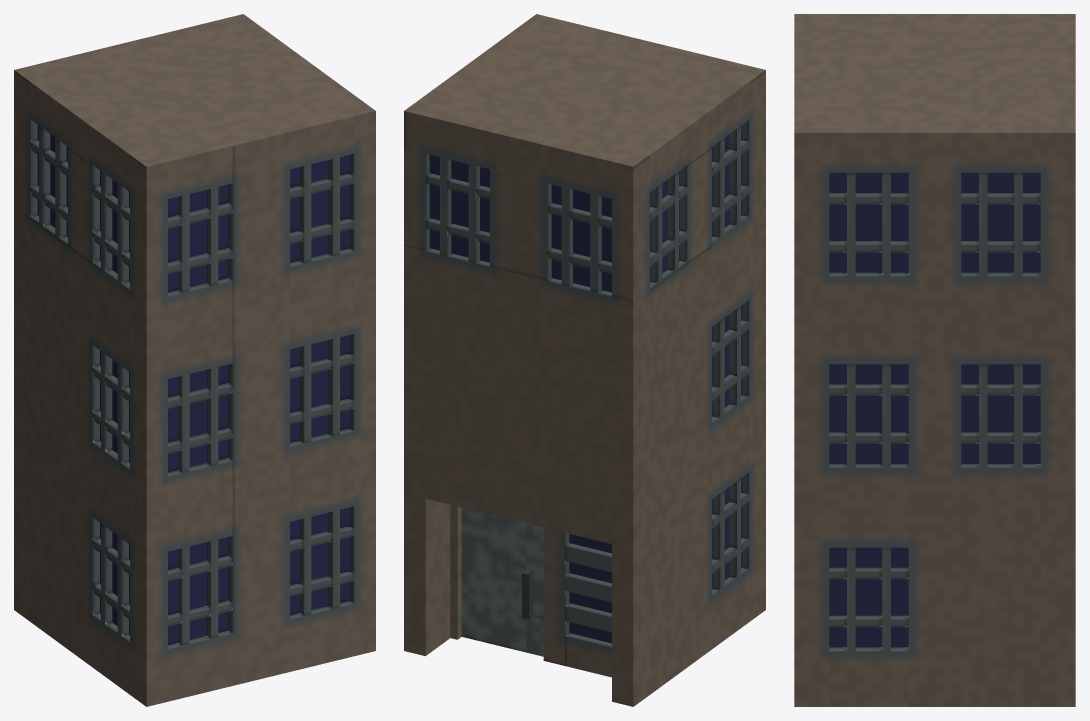
The model's file is budynki_dzielnia_4.dae.
The picture shows the model from 3 angles, left to right: view 1: azimuth 30°, elevation 25°; view 2: azimuth 150°, elevation 25°; view 3: azimuth 270°, elevation 25°; orthographic projection. The views are drawn at different scales.
Visible parts, largest first — view 1: Content; view 2: Content; view 3: Content.
Boxes of the visible parts, bbox=[...] form: Content: bbox=[14, 14, 375, 706]; Content: bbox=[404, 14, 765, 706]; Content: bbox=[794, 14, 1075, 706].
Bounding box in the file's own units: 32 × 72 × 32.
Materials: 1 (1 with a texture image).
